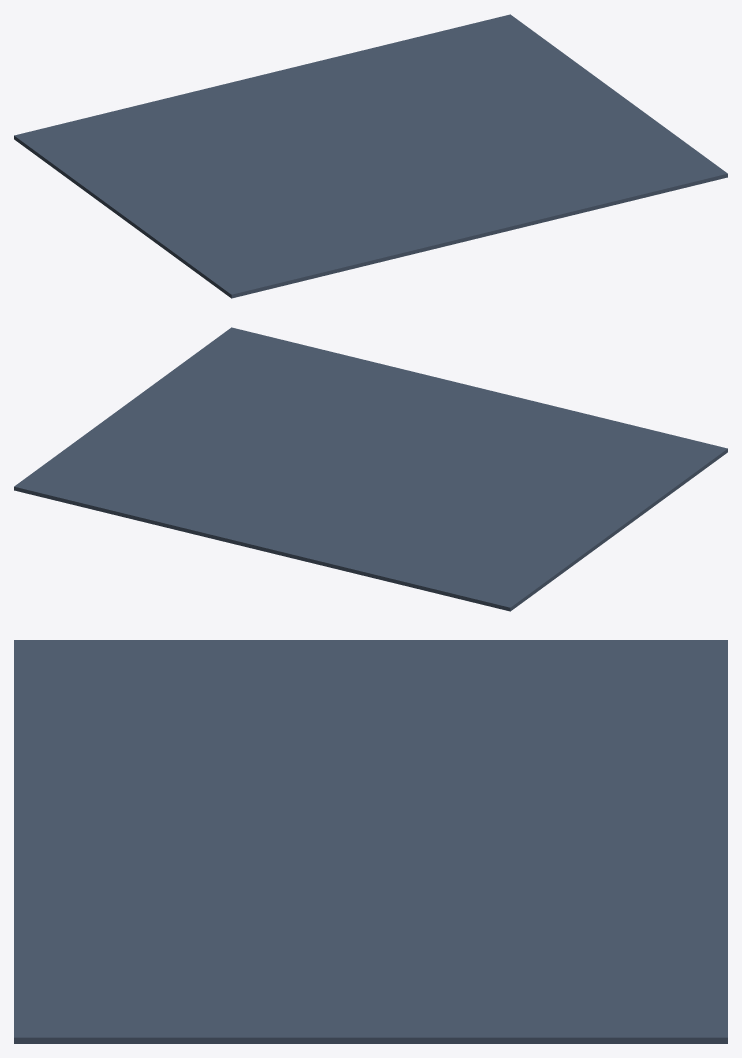
The model's file is floor_001_t_energy_floor_01.obj.
The picture shows the model from 3 angles, top to bottom: view 1: azimuth 30°, elevation 25°; view 2: azimuth 150°, elevation 25°; view 3: azimuth 270°, elevation 25°; orthographic projection. The views are drawn at different scales.
Visible parts, largest first — view 1: Floor_001_t_energy_floor_01; view 2: Floor_001_t_energy_floor_01; view 3: Floor_001_t_energy_floor_01.
Part boxes in pixels (x1,y1,x2,y2): Floor_001_t_energy_floor_01: (14, 14, 727, 298); Floor_001_t_energy_floor_01: (14, 327, 727, 611); Floor_001_t_energy_floor_01: (14, 640, 727, 1043).
Bounding box in the file's own units: 27.18 × 0.2 × 20.63.
